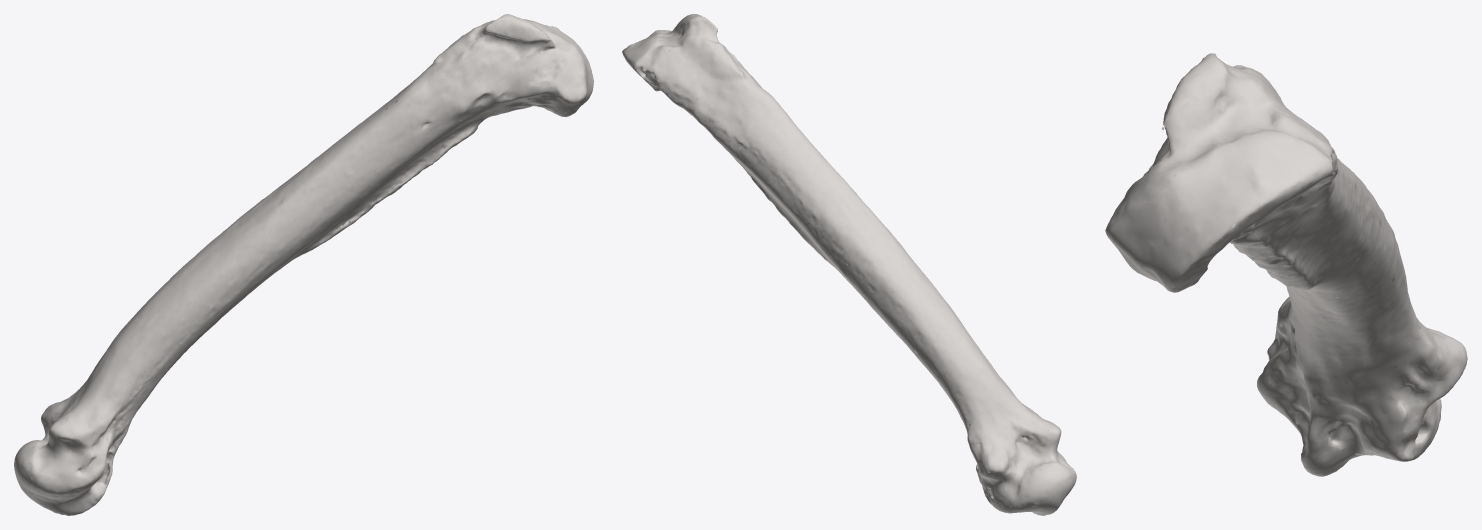
3 views of the same model, side by side, from view 1: azimuth 30°, elevation 25°; view 2: azimuth 150°, elevation 25°; view 3: azimuth 270°, elevation 25° (orthographic). The views are drawn at different scales.
Visible parts, largest first — view 1: Mc_Katze.001; view 2: Mc_Katze.001; view 3: Mc_Katze.001.
Boxes of the visible parts, x1,y1,x2,y2 form: Mc_Katze.001: (14,14,593,515); Mc_Katze.001: (622,14,1076,515); Mc_Katze.001: (1105,53,1467,476).
Size of the model in its own units: 2619 by 2014 by 857.
Materials: 1 (1 with a texture image).
